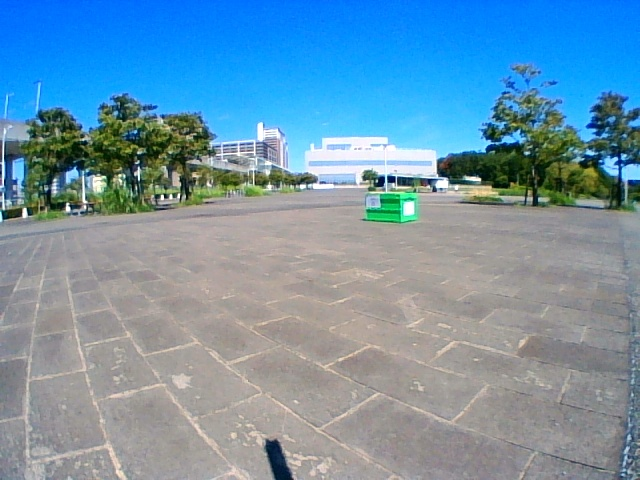green_box: (365, 192, 417, 223)
tag: (366, 196, 379, 208)
